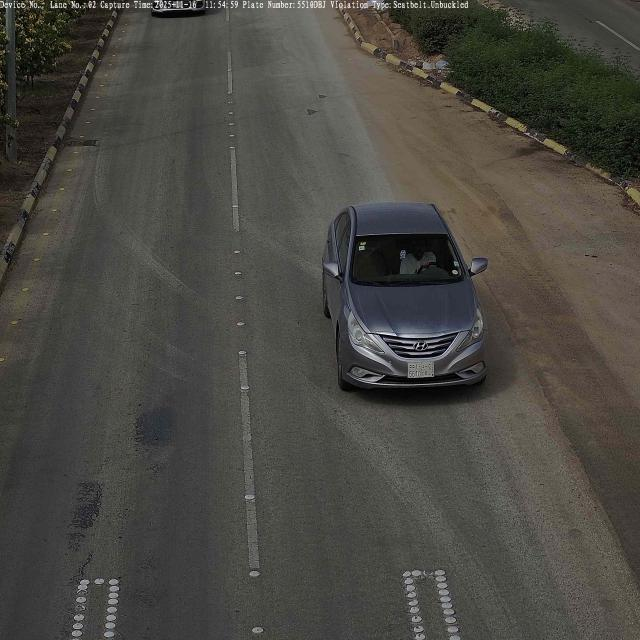person_without_seatbelt: (400, 239, 437, 278)
